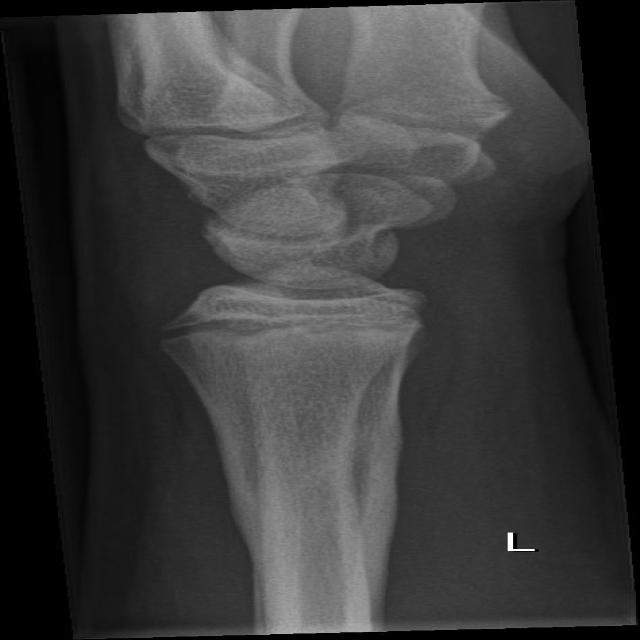fracture: (142, 291, 450, 361)
